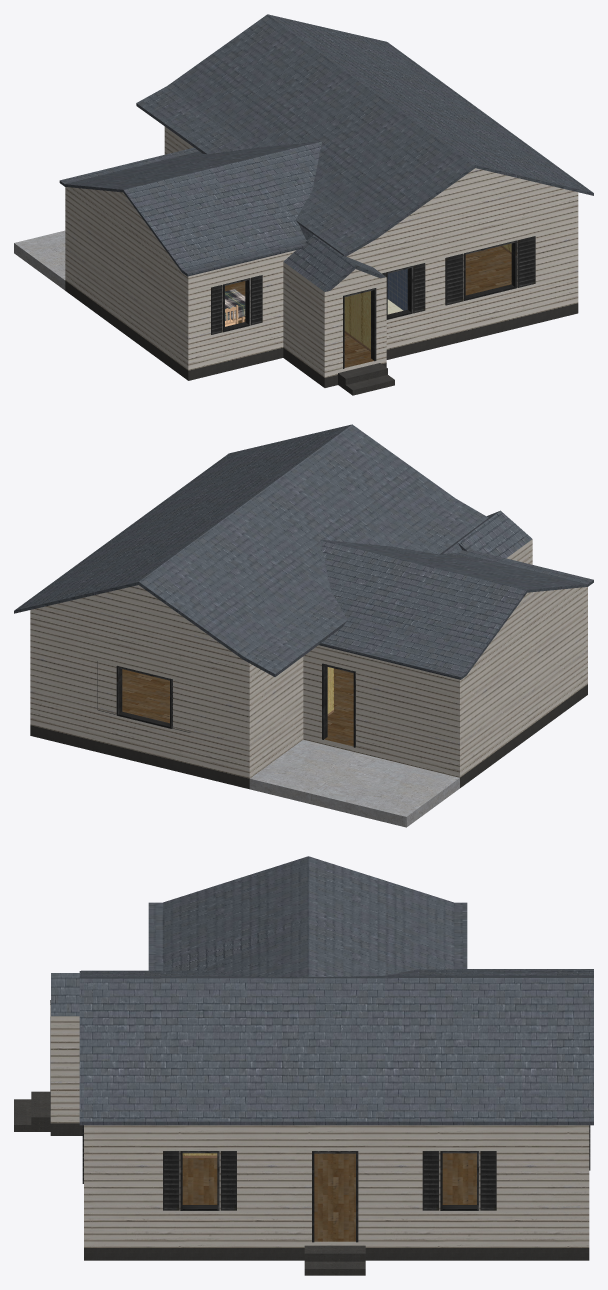
File: casa_demo.glb
The picture shows the model from 3 angles, top to bottom: view 1: azimuth 30°, elevation 25°; view 2: azimuth 150°, elevation 25°; view 3: azimuth 270°, elevation 25°; orthographic projection. The views are drawn at different scales.
Parts seen in each view (by area): view 1: House_Demo_001_RooftilesSlate_0, House_Demo_040_Wood_0, House_Demo_040_Rooftiles_0, House_Demo_040_Wood_02_0, House_Demo_040_Concrete_01_0, House_Demo_040_WallpaperForties_0, House_Demo_002_Rooftiles_0, House_Demo_018_Wood_03_0, House_Demo_019_Wood_03_0, House_Demo_010_Wood_03_0, House_Demo_040_Tiles_0, House_Demo_004_Wood_03_0 (+6 smaller); view 2: House_Demo_001_RooftilesSlate_0, House_Demo_040_Wood_0, House_Demo_040_Concrete_01_0, House_Demo_040_Rooftiles_0, House_Demo_040_Wood_02_0, House_Demo_011_Wood_03_0, House_Demo_005_Wood_03_0; view 3: House_Demo_001_RooftilesSlate_0, House_Demo_040_Wood_0, House_Demo_040_Wood_02_0, House_Demo_040_Rooftiles_0, House_Demo_003_Rooftiles_0, House_Demo_002_Rooftiles_0, House_Demo_026_Wood_03_0, House_Demo_024_Wood_03_0, House_Demo_025_Wood_03_0, House_Demo_027_Wood_03_0, House_Demo_015_Wood_03_0, House_Demo_013_Wood_03_0 (+1 smaller).
Boxes of the visible parts, x1,y1,x2,y2 form: House_Demo_001_RooftilesSlate_0: (59,14,593,291); House_Demo_040_Wood_0: (65,126,578,377); House_Demo_040_Rooftiles_0: (65,281,578,387); House_Demo_040_Wood_02_0: (225,246,511,367); House_Demo_040_Concrete_01_0: (14,230,65,290); House_Demo_040_WallpaperForties_0: (344,243,511,351); House_Demo_002_Rooftiles_0: (338,363,394,395); House_Demo_018_Wood_03_0: (445,253,463,305); House_Demo_019_Wood_03_0: (517,236,535,287); House_Demo_010_Wood_03_0: (464,240,516,300); House_Demo_040_Tiles_0: (387,269,407,310); House_Demo_004_Wood_03_0: (343,288,376,368); House_Demo_001_RooftilesSlate_0: (14,424,593,679); House_Demo_040_Wood_0: (30,539,587,778); House_Demo_040_Concrete_01_0: (249,739,459,827); House_Demo_040_Rooftiles_0: (30,684,587,789); House_Demo_040_Wood_02_0: (122,668,353,746); House_Demo_011_Wood_03_0: (116,665,172,728); House_Demo_005_Wood_03_0: (322,663,355,747); House_Demo_001_RooftilesSlate_0: (51,856,593,1125); House_Demo_040_Wood_0: (50,1005,589,1247); House_Demo_040_Wood_02_0: (182,1153,476,1241); House_Demo_040_Rooftiles_0: (50,1123,589,1260); House_Demo_003_Rooftiles_0: (304,1245,365,1275); House_Demo_002_Rooftiles_0: (14,1091,50,1131); House_Demo_026_Wood_03_0: (422,1151,439,1210); House_Demo_024_Wood_03_0: (163,1151,179,1210); House_Demo_025_Wood_03_0: (220,1151,236,1210); House_Demo_027_Wood_03_0: (480,1151,496,1210); House_Demo_015_Wood_03_0: (312,1151,358,1242); House_Demo_013_Wood_03_0: (180,1151,219,1210).
Size of the model in its own units: 12.85 by 5.52 by 13.28.
Materials: 20 (20 with a texture image).
